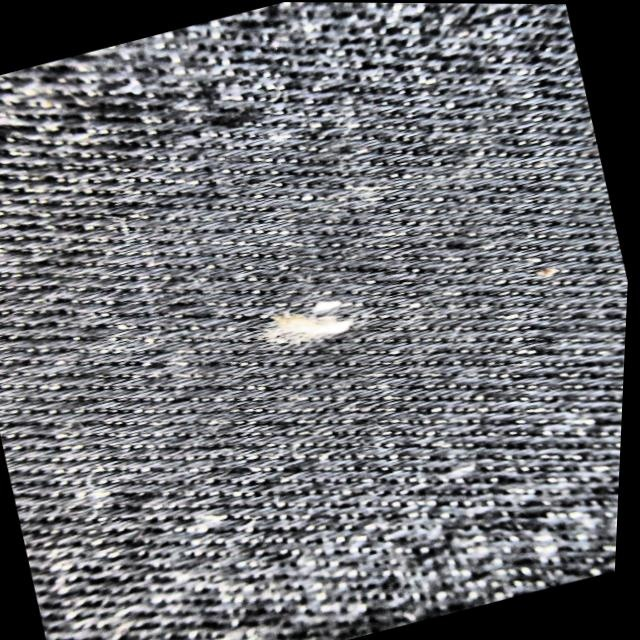Hole: (263, 292, 359, 354)
